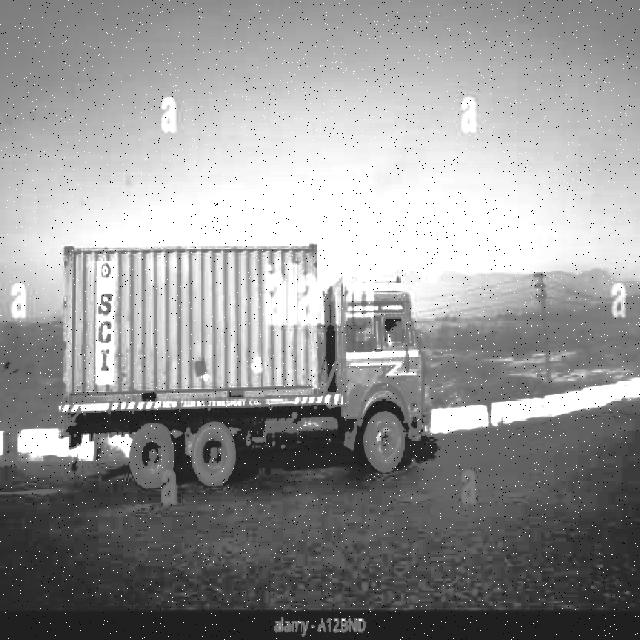HCV: (55, 240, 422, 488)
